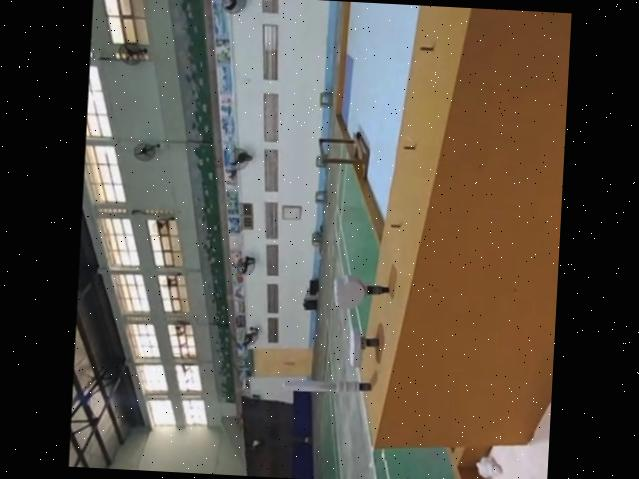Fist: (331, 272, 394, 312)
Hand: (344, 325, 380, 367)
Sph: (283, 370, 374, 395)
